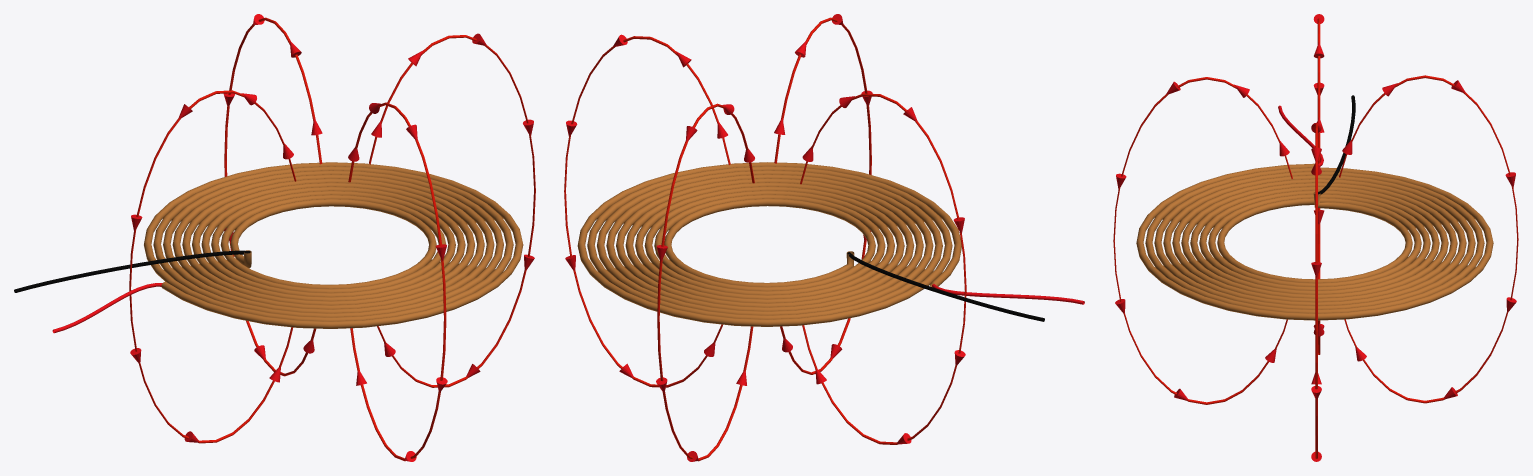
The model's file is 磁感线test1.glb.
The picture shows the model from 3 angles, left to right: view 1: azimuth 30°, elevation 25°; view 2: azimuth 150°, elevation 25°; view 3: azimuth 270°, elevation 25°; orthographic projection. The views are drawn at different scales.
Visible parts, largest first — view 1: Spiral, 磁感线, 贝塞尔曲线, 贝塞尔曲线.001; view 2: Spiral, 磁感线, 贝塞尔曲线, 贝塞尔曲线.001; view 3: Spiral, 磁感线.
Boxes of the visible parts, box(x1,y1,x2,y2) form: Spiral: box(144, 162, 523, 328); 磁感线: box(129, 14, 535, 461); 贝塞尔曲线: box(14, 250, 249, 292); 贝塞尔曲线.001: box(52, 283, 162, 333); Spiral: box(577, 162, 961, 326); 磁感线: box(564, 14, 966, 461); 贝塞尔曲线: box(847, 252, 1044, 321); 贝塞尔曲线.001: box(932, 284, 1084, 304); Spiral: box(1136, 163, 1493, 320); 磁感线: box(1113, 14, 1518, 461).
Size of the model in its own units: 12.05 by 8.06 by 9.03.
